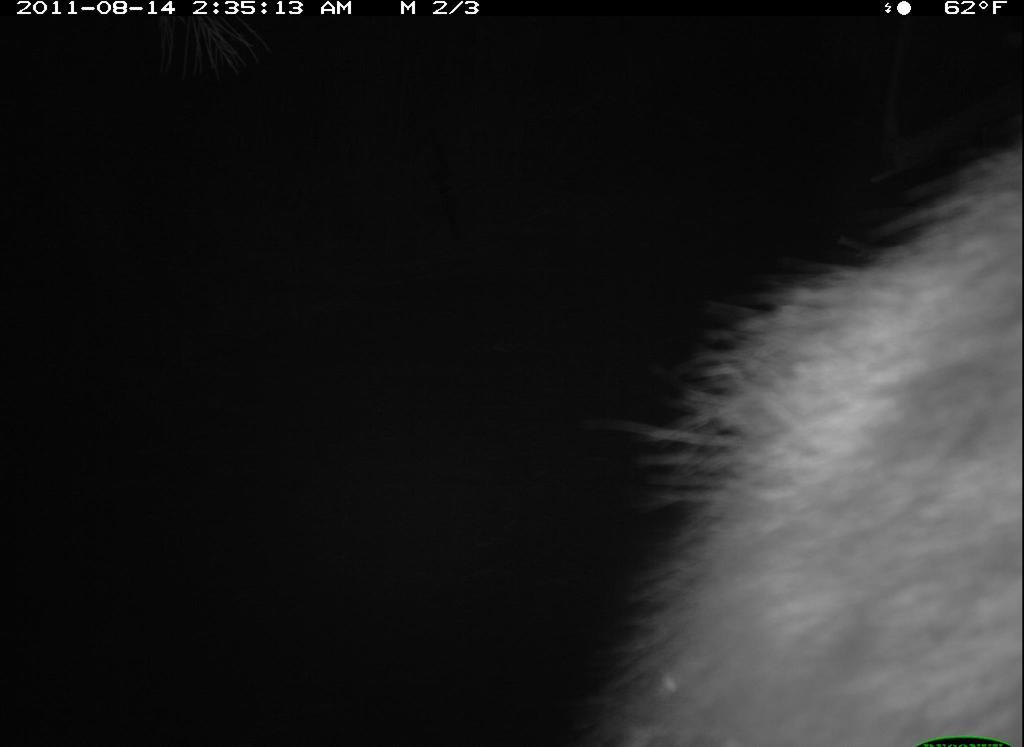raccoon: (598, 132, 1016, 747)
